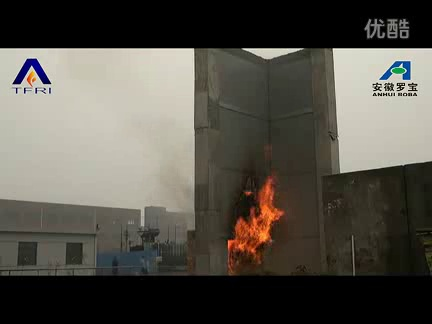fire: (216, 169, 285, 274)
